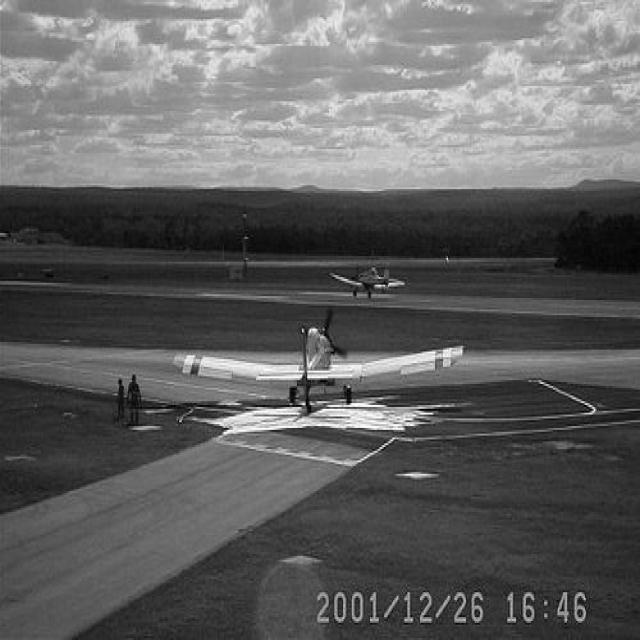aeroplane: (168, 306, 470, 428), (325, 258, 407, 313)
